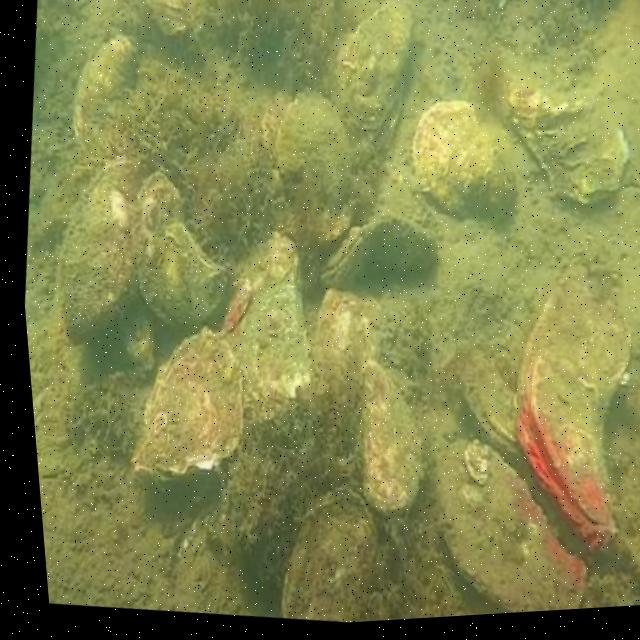Oyster-Closed: (518, 267, 632, 542), (320, 208, 434, 288), (464, 335, 523, 454)
Oyster-Indeterminate: (438, 438, 587, 612), (132, 321, 244, 478), (222, 228, 314, 418), (123, 175, 228, 336), (60, 162, 148, 352), (284, 475, 379, 621), (506, 87, 626, 202), (355, 365, 427, 518), (413, 106, 513, 214), (331, 0, 411, 132), (275, 95, 359, 201), (71, 38, 140, 161), (315, 291, 382, 388), (145, 0, 213, 37), (265, 104, 285, 156)
